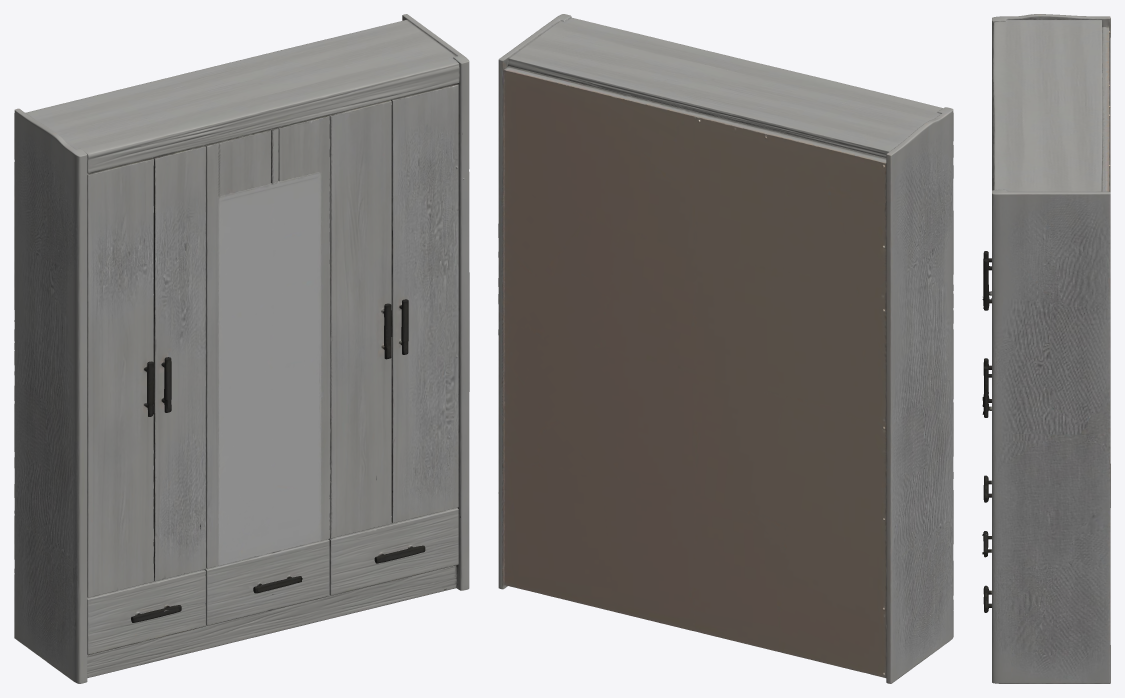
Rendered from No Name-09.glb.
3 renders of one model, left to right at view 1: azimuth 30°, elevation 25°; view 2: azimuth 150°, elevation 25°; view 3: azimuth 270°, elevation 25°, orthographic. The views are drawn at different scales.
Visible parts, largest first — view 1: tripo_node_d575de05-06fc-4b0a-b2f4-666e69694c46; view 2: tripo_node_d575de05-06fc-4b0a-b2f4-666e69694c46; view 3: tripo_node_d575de05-06fc-4b0a-b2f4-666e69694c46.
Part boxes in pixels (<box>): tripo_node_d575de05-06fc-4b0a-b2f4-666e69694c46: <box>14,14,469,683</box>; tripo_node_d575de05-06fc-4b0a-b2f4-666e69694c46: <box>498,14,953,683</box>; tripo_node_d575de05-06fc-4b0a-b2f4-666e69694c46: <box>982,14,1110,683</box>.
Size of the model in its own units: 0.7566 by 0.978 by 0.2318.
Materials: 1 (1 with a texture image).
